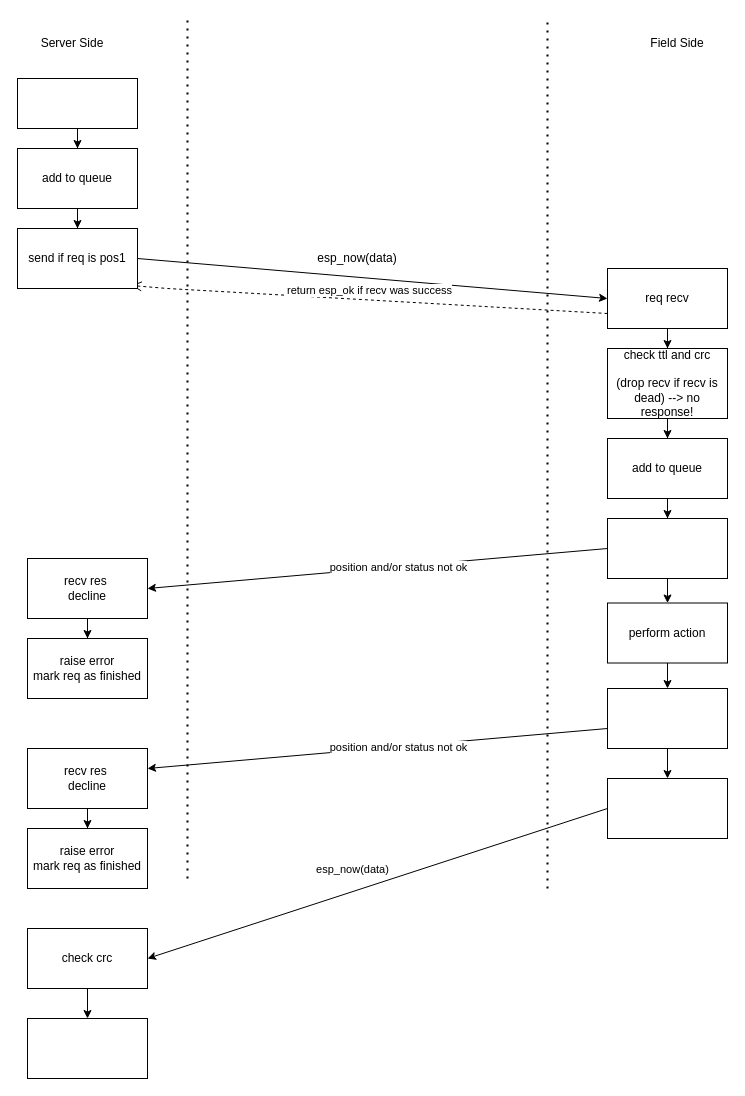
Image size: 745x1096. Some labels were removed from this diagram. Here are the shapes that lost their labels. From the top down, the centre of each, then its label:
At point 77,103: "/ws/ req for open recv".
At point 667,548: "req is pos1: check engine position and status".
At point 667,718: "check engine position and status".
At point 667,808: "if ok".
At point 87,1048: "success".
